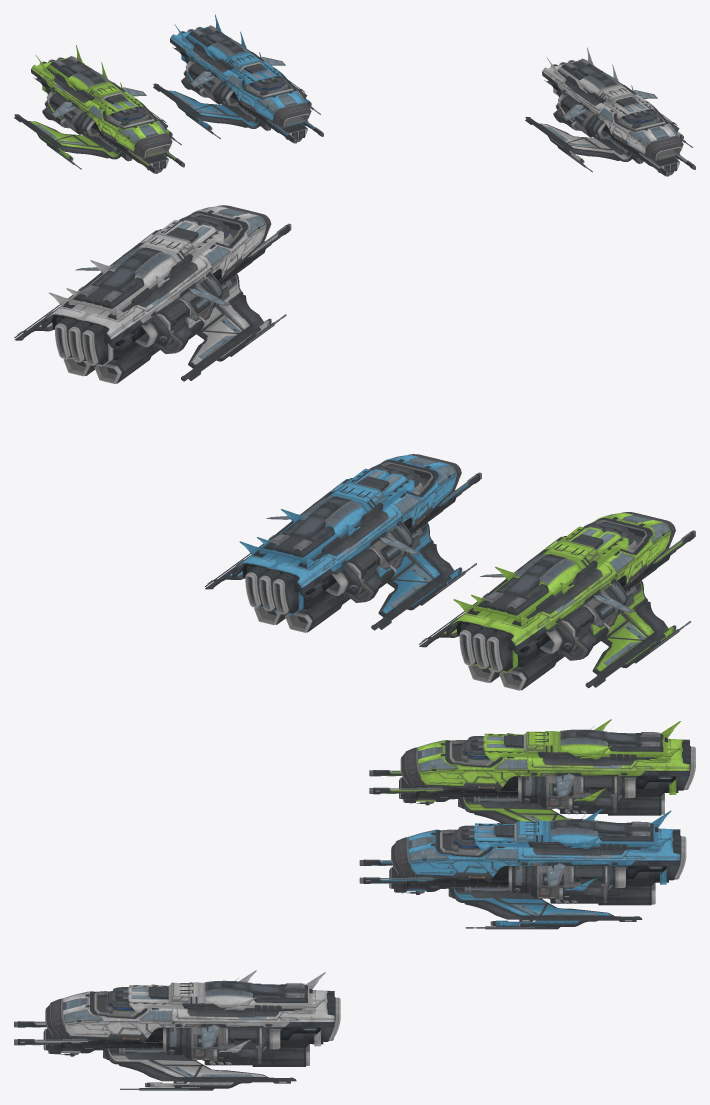
Rendered from spaceship-test_lod5.glb.
The picture shows the model from 3 angles, top to bottom: view 1: azimuth 30°, elevation 25°; view 2: azimuth 150°, elevation 25°; view 3: azimuth 270°, elevation 25°; orthographic projection. The views are drawn at different scales.
Visible parts, largest first — view 1: Cube.034, Cube.005, Cube.007; view 2: Cube.007, Cube.005, Cube.034; view 3: Cube.034, Cube.007, Cube.005.
Boxes of the visible parts, <box> form: Cube.034: <box>153,14,323,143</box>; Cube.005: <box>14,45,184,173</box>; Cube.007: <box>525,47,695,176</box>; Cube.007: <box>14,205,291,383</box>; Cube.005: <box>419,512,695,690</box>; Cube.034: <box>205,454,481,632</box>; Cube.034: <box>359,809,686,929</box>; Cube.007: <box>14,970,340,1090</box>; Cube.005: <box>369,719,695,823</box>.
Bounding box in the file's own units: 120 × 13.49 × 107.
Materials: 3 (3 with a texture image).
